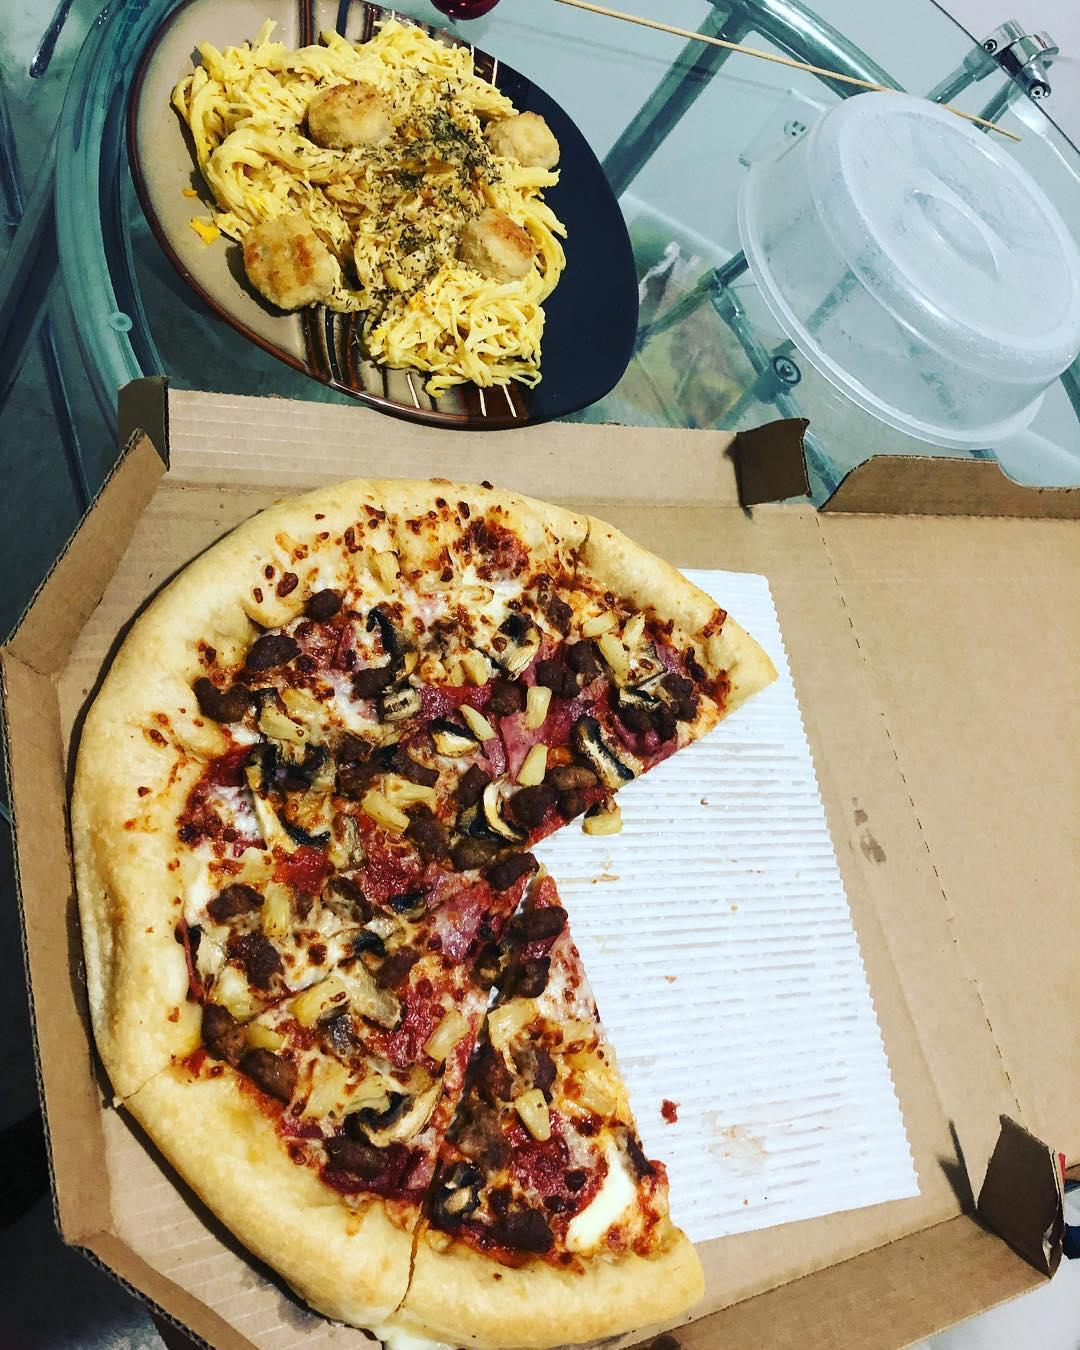Ham: (421, 863, 482, 966), (295, 601, 366, 688), (391, 981, 436, 1055), (471, 711, 519, 771), (521, 1143, 568, 1201), (411, 676, 483, 711), (488, 876, 537, 917)
Mushroom: (367, 1081, 441, 1147), (577, 714, 635, 791), (438, 1171, 480, 1224), (322, 883, 372, 926), (618, 670, 672, 705), (506, 625, 541, 673), (434, 725, 484, 757), (378, 685, 415, 721)
Pineapple: (303, 1060, 348, 1120), (493, 996, 537, 1047), (258, 704, 310, 744), (298, 978, 341, 1024), (364, 789, 408, 832), (518, 1091, 553, 1141), (424, 1015, 464, 1059), (516, 744, 548, 788), (263, 886, 289, 940), (387, 774, 432, 800), (523, 687, 551, 730), (376, 551, 403, 590), (583, 608, 616, 637), (603, 637, 627, 672), (250, 1025, 282, 1051), (627, 613, 641, 649)
Pizza: (58, 476, 773, 1333)
